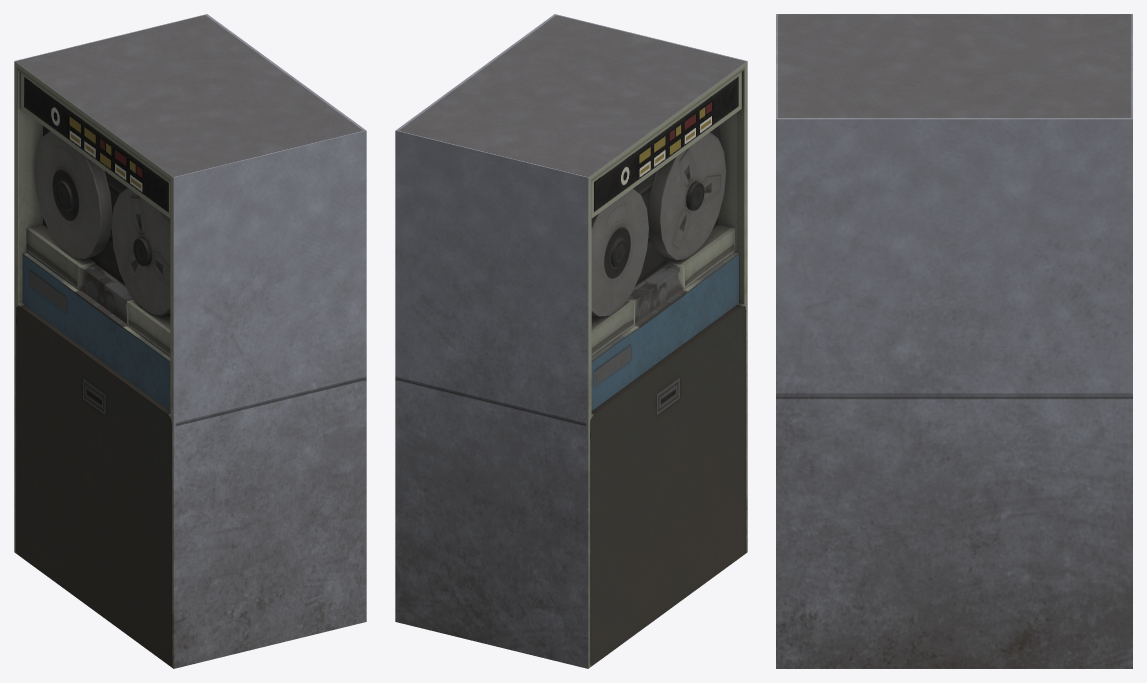
The model's file is ibm_7330_magnetic_tape_storage.glb.
3 views of the same model, side by side, from view 1: azimuth 30°, elevation 25°; view 2: azimuth 150°, elevation 25°; view 3: azimuth 270°, elevation 25° (orthographic). The views are drawn at different scales.
Parts seen in each view (by area): view 1: Box002; view 2: Box002; view 3: Box002.
Boxes of the visible parts, x1,y1,x2,y2 form: Box002: (14, 14, 366, 668); Box002: (395, 14, 747, 668); Box002: (776, 14, 1132, 668).
Size of the model in its own units: 198 by 482 by 284.
Materials: 2 (1 with a texture image).
